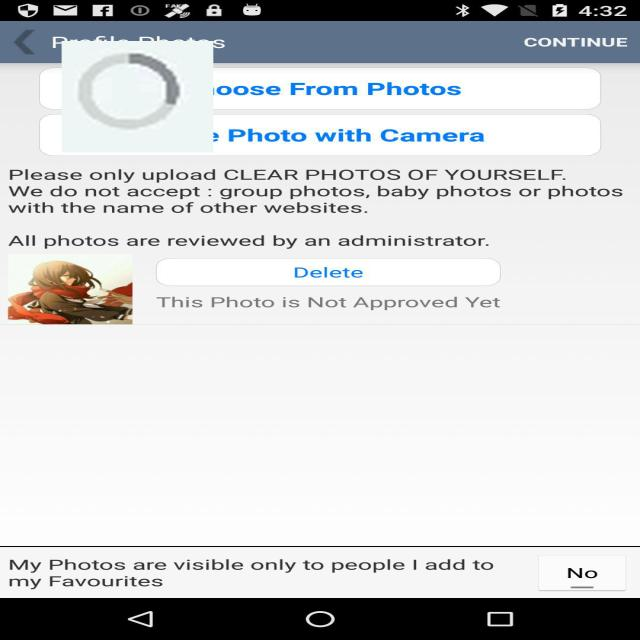misdirection: (62, 41, 213, 152)
